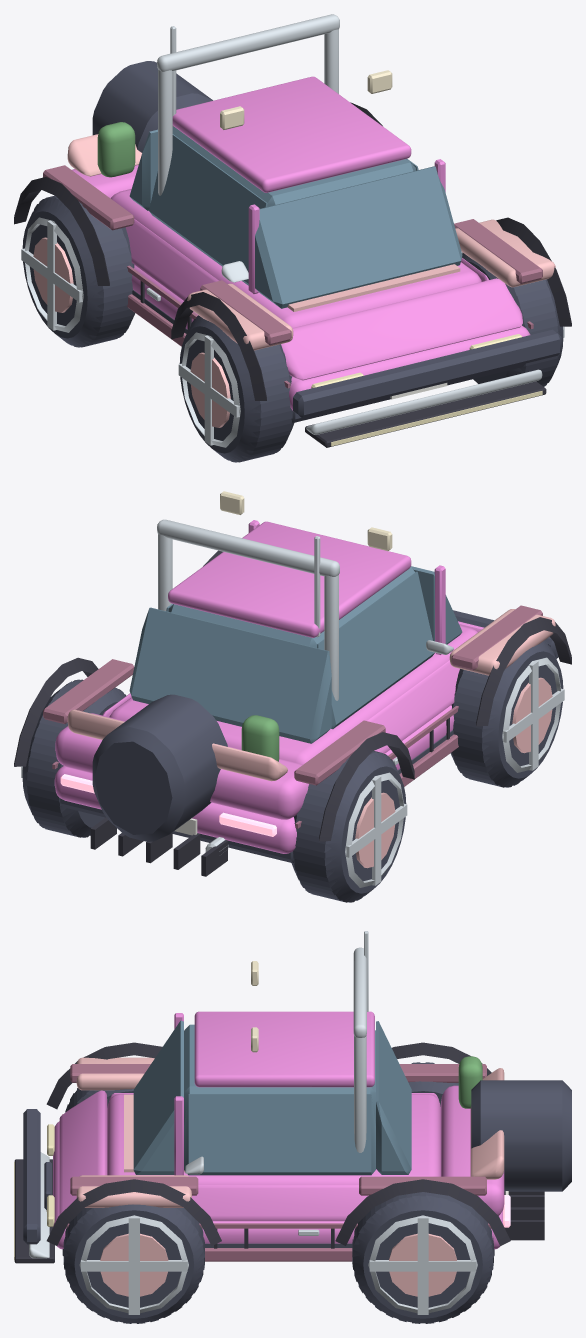
File: mudskipper.fbx
The picture shows the model from 3 angles, top to bottom: view 1: azimuth 30°, elevation 25°; view 2: azimuth 150°, elevation 25°; view 3: azimuth 270°, elevation 25°; orthographic projection. The views are drawn at different scales.
Parts seen in each view (by area): view 1: Body, Glass, Trim2, Accent2, Trim, Wheel_RR, Wheel_FR, Accent, Accent3, Metal, Wheel_FL, Metal2 (+3 smaller); view 2: Body, Glass, Trim2, Trim, Wheel_RR, Accent, Wheel_FR, Accent2, Metal, Wheel_RL, Accent3, Metal2 (+3 smaller); view 3: Body, Glass, Trim2, Trim, Wheel_RL, Wheel_FL, Metal, Accent, Accent3, Metal2, Accent2, Accent5 (+2 smaller).
Part boxes in pixels (x1=…): Body: x1=72, y1=76, x2=530, y2=410; Glass: x1=129, y1=127, x2=462, y2=308; Trim2: x1=92, y1=61, x2=561, y2=423; Accent2: x1=157, y1=14, x2=542, y2=434; Trim: x1=14, y1=102, x2=571, y2=447; Wheel_RR: x1=22, y1=195, x2=135, y2=347; Wheel_FR: x1=179, y1=315, x2=294, y2=462; Accent: x1=43, y1=165, x2=542, y2=388; Accent3: x1=67, y1=134, x2=555, y2=350; Metal: x1=21, y1=217, x2=564, y2=447; Wheel_FL: x1=462, y1=252, x2=563, y2=386; Metal2: x1=33, y1=237, x2=230, y2=427; Body: x1=54, y1=520, x2=484, y2=853; Glass: x1=129, y1=566, x2=462, y2=743; Trim2: x1=59, y1=610, x2=558, y2=863; Trim: x1=14, y1=550, x2=571, y2=876; Wheel_RR: x1=291, y1=751, x2=406, y2=902; Accent: x1=43, y1=605, x2=542, y2=828; Wheel_FR: x1=450, y1=640, x2=563, y2=787; Accent2: x1=157, y1=519, x2=453, y2=700; Metal: x1=21, y1=657, x2=564, y2=887; Wheel_RL: x1=22, y1=679, x2=126, y2=837; Accent3: x1=67, y1=609, x2=555, y2=781; Metal2: x1=355, y1=677, x2=552, y2=868; Body: x1=53, y1=1011, x2=504, y2=1249; Glass: x1=133, y1=1020, x2=411, y2=1175; Trim2: x1=23, y1=1080, x2=571, y2=1255; Trim: x1=14, y1=1042, x2=544, y2=1263; Wheel_RL: x1=352, y1=1192, x2=493, y2=1323; Wheel_FL: x1=63, y1=1204, x2=204, y2=1323; Metal: x1=79, y1=1215, x2=477, y2=1314; Accent: x1=62, y1=1064, x2=491, y2=1261; Accent3: x1=76, y1=1057, x2=504, y2=1207; Metal2: x1=100, y1=1233, x2=456, y2=1296; Accent2: x1=29, y1=931, x2=368, y2=1258; Accent5: x1=458, y1=1056, x2=482, y2=1108.
Size of the model in its own units: 3.41 by 3.17 by 5.46.
